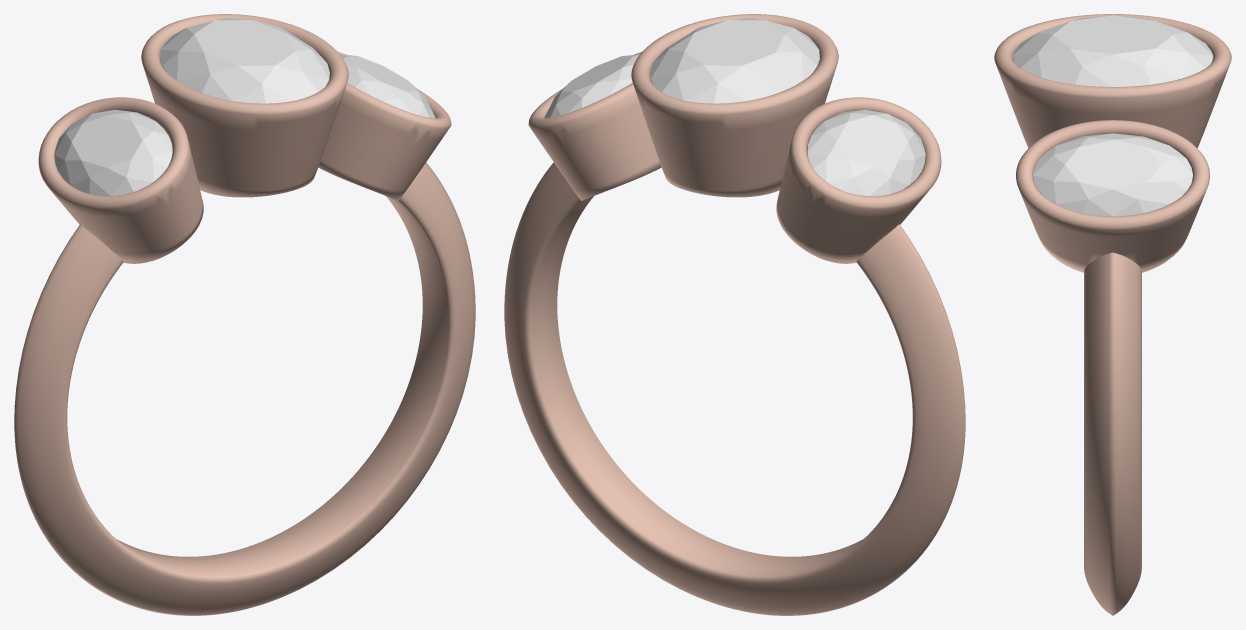
The model's file is diamond-oval-rosegold-bezelset-knifeedge-3stone.glb.
3 views of the same model, side by side, from view 1: azimuth 30°, elevation 25°; view 2: azimuth 150°, elevation 25°; view 3: azimuth 270°, elevation 25° (orthographic).
Visible parts, largest first — view 1: metal, stone.002, side.004, side.005; view 2: metal, stone.002, side.004, side.005; view 3: metal, stone.002, side.005.
Part boxes in pixels (<box>): metal: <box>14,14,475,615</box>; stone.002: <box>160,17,329,103</box>; side.004: <box>54,109,172,196</box>; side.005: <box>340,54,435,118</box>; metal: <box>504,14,965,615</box>; stone.002: <box>650,17,819,103</box>; side.004: <box>807,109,925,196</box>; side.005: <box>544,54,639,118</box>; metal: <box>994,14,1231,615</box>; stone.002: <box>1012,15,1213,86</box>; side.005: <box>1033,133,1192,216</box>.
Size of the model in its own units: 19.94 by 23.4 by 9.04.
